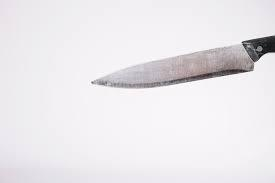Knife: (90, 33, 274, 89)
